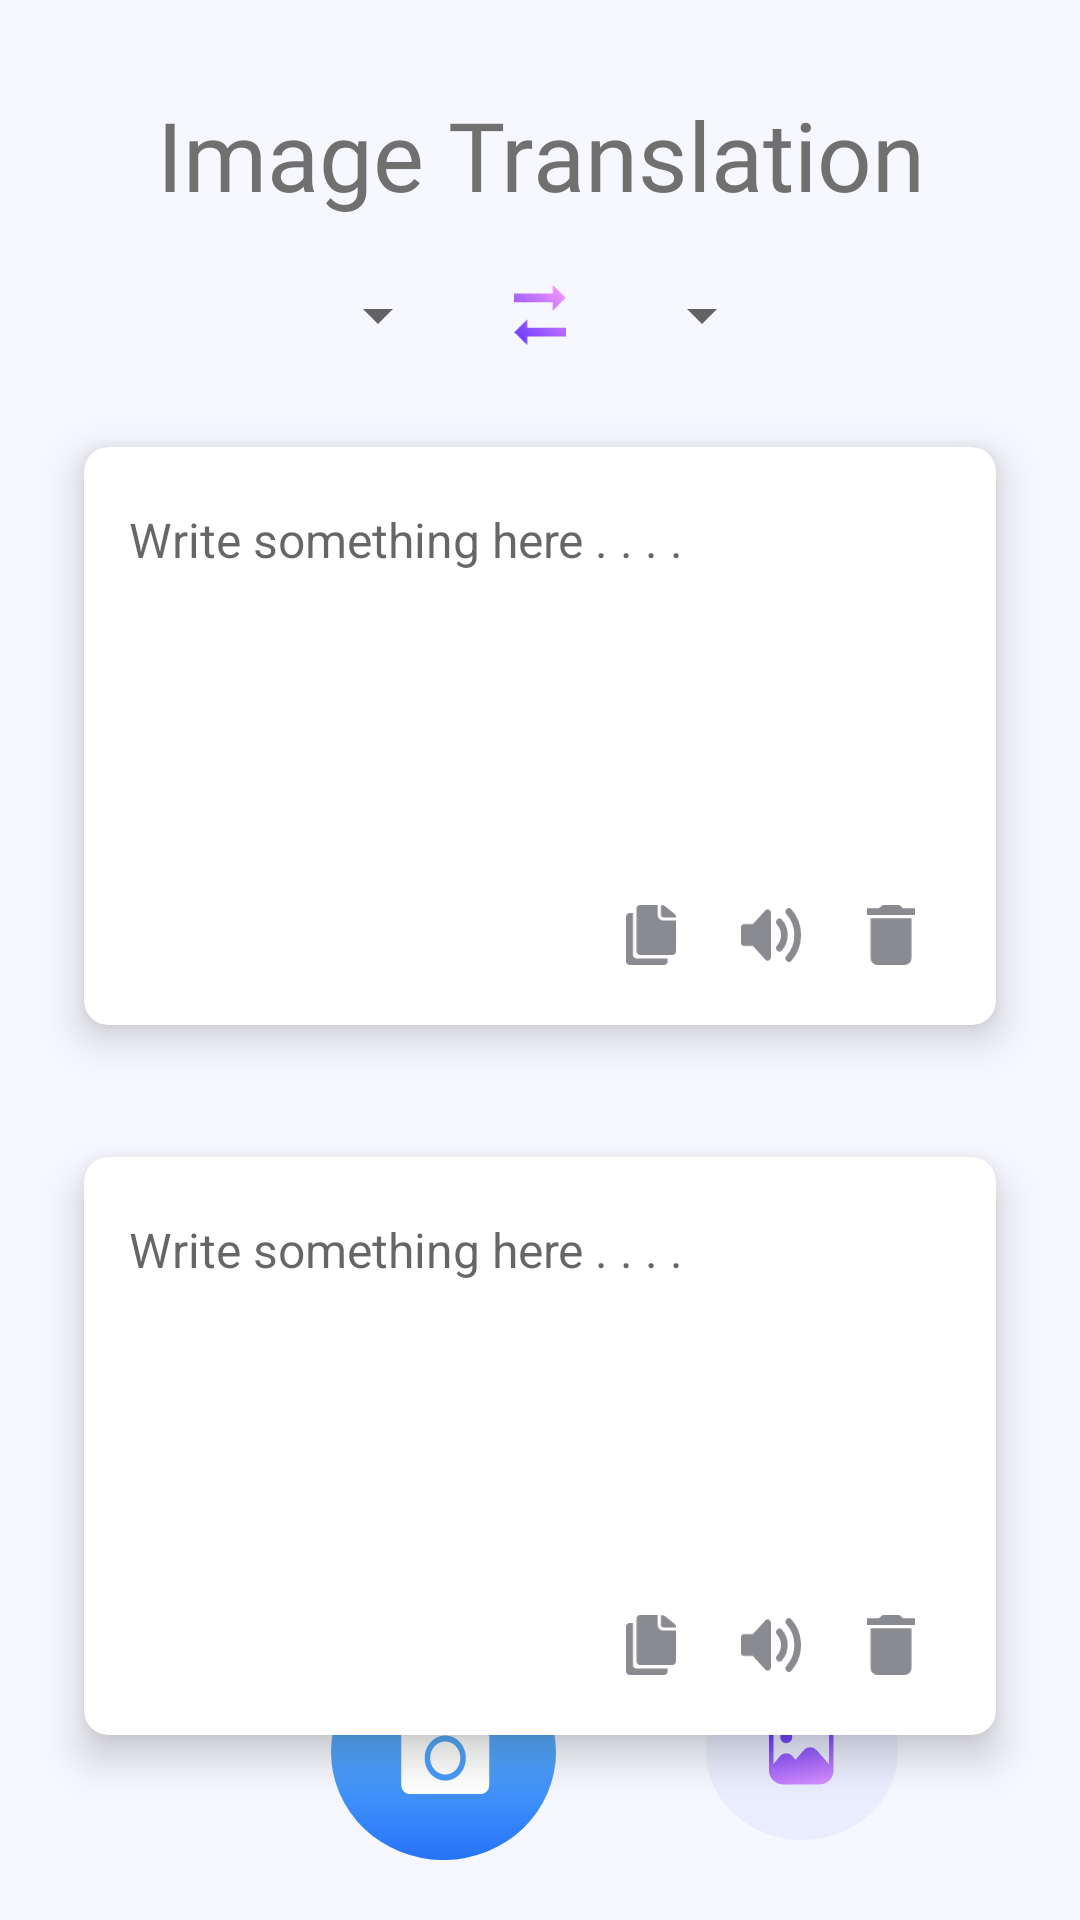

Icon bounding boxes for this 1080x1920 phone screenshot, format (x1, y1, x2, y2):
delete: (867, 905, 915, 965), (867, 1615, 915, 1675)
sound: (741, 908, 801, 962), (741, 1618, 801, 1672)
transfer: (514, 285, 566, 345)
